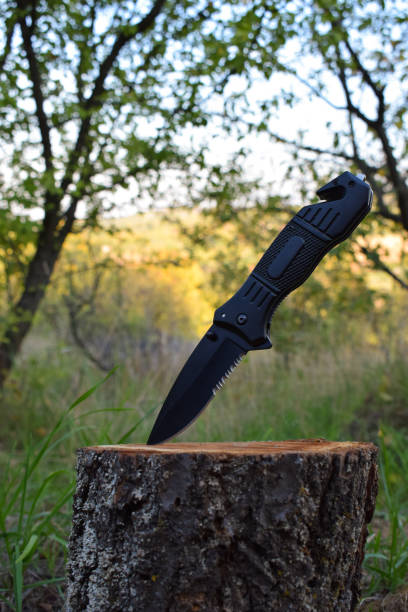knife: (142, 169, 377, 450)
